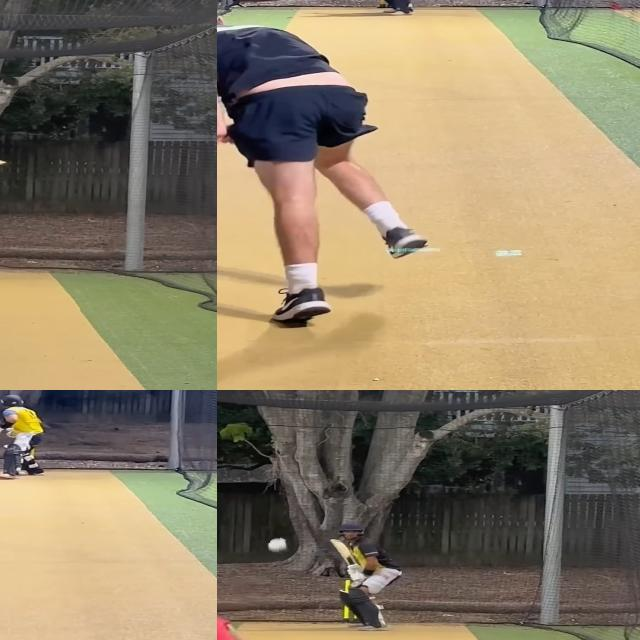Cricket ball: (266, 538, 294, 556)
